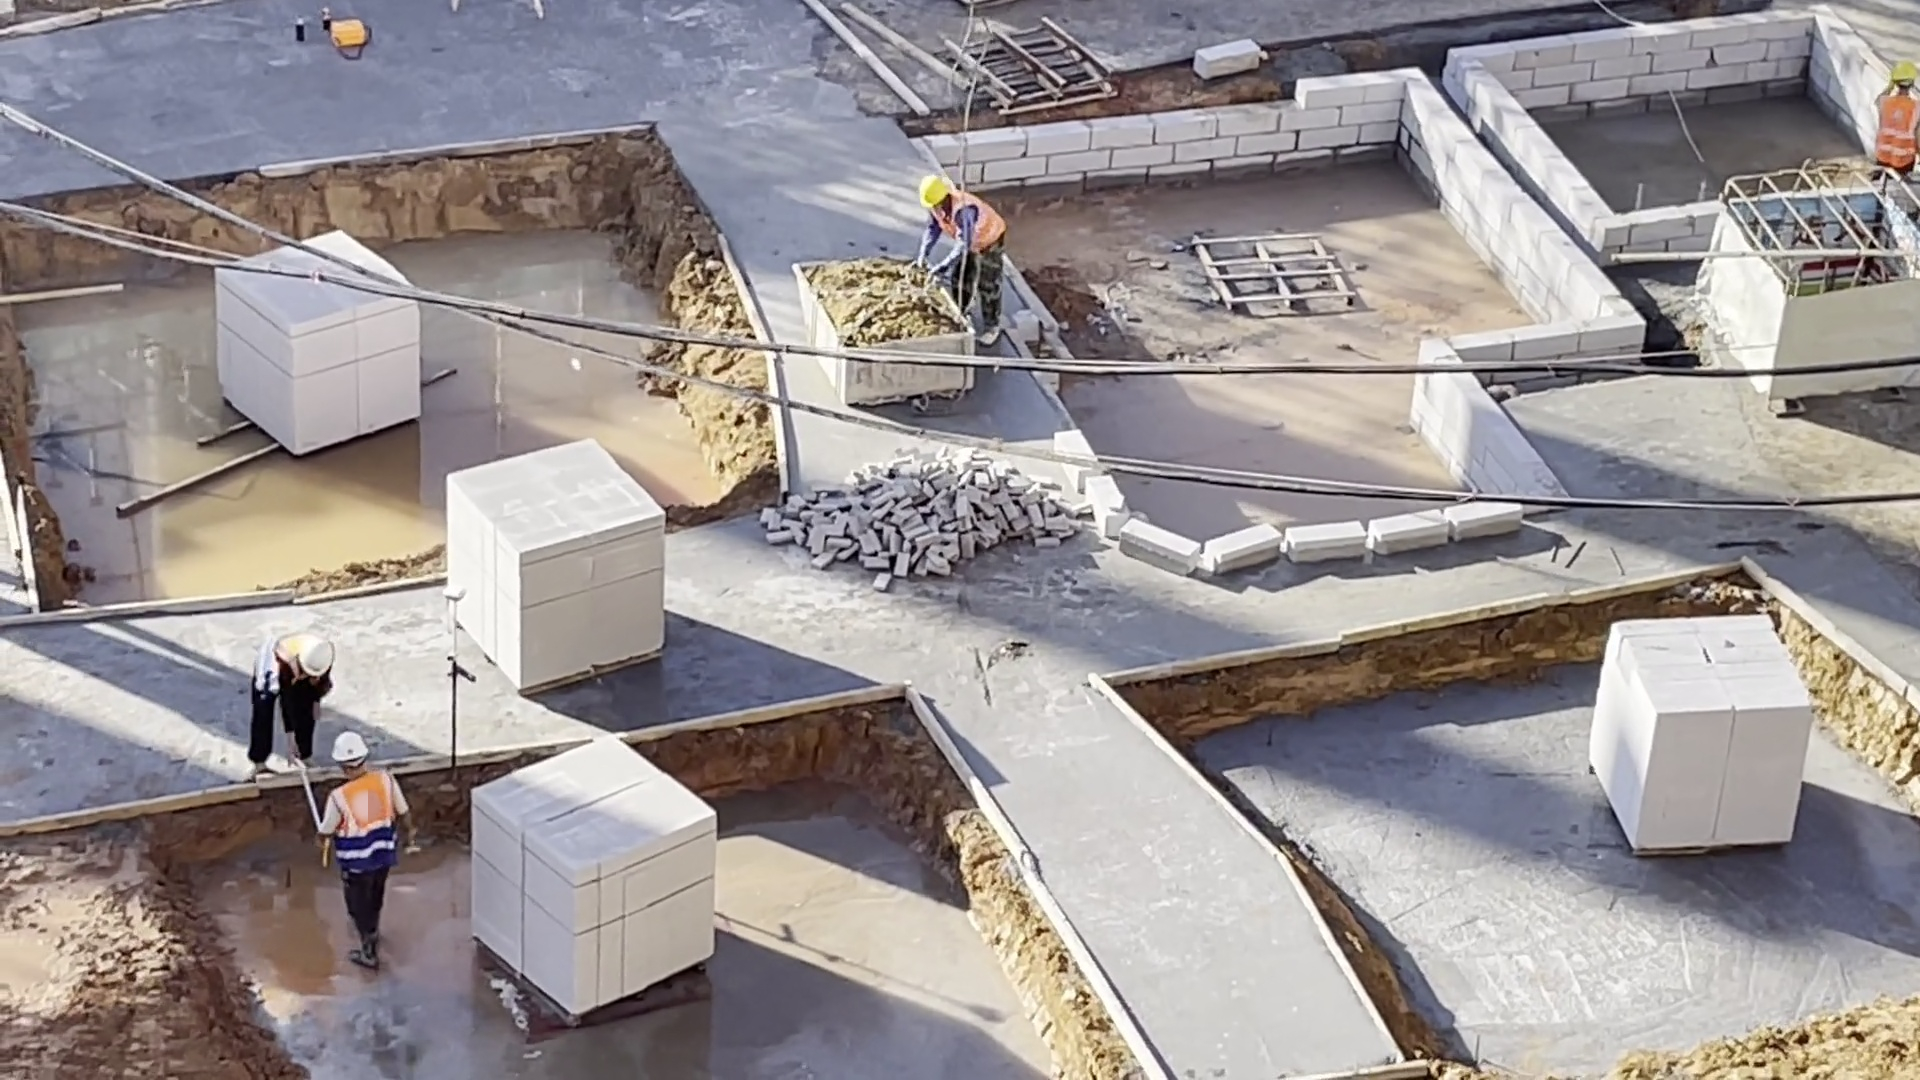brick: (465, 738, 726, 1013), (446, 430, 662, 701), (1587, 609, 1815, 864), (209, 304, 424, 457)
helmet: (330, 728, 370, 769), (918, 172, 956, 210), (298, 637, 328, 682), (1890, 56, 1919, 85)
hopper: (788, 253, 925, 342)
person: (314, 727, 422, 967), (907, 168, 1014, 348), (240, 622, 329, 776), (1864, 53, 1920, 180)
vest: (336, 768, 399, 869), (929, 192, 1005, 254), (1874, 93, 1920, 168)
